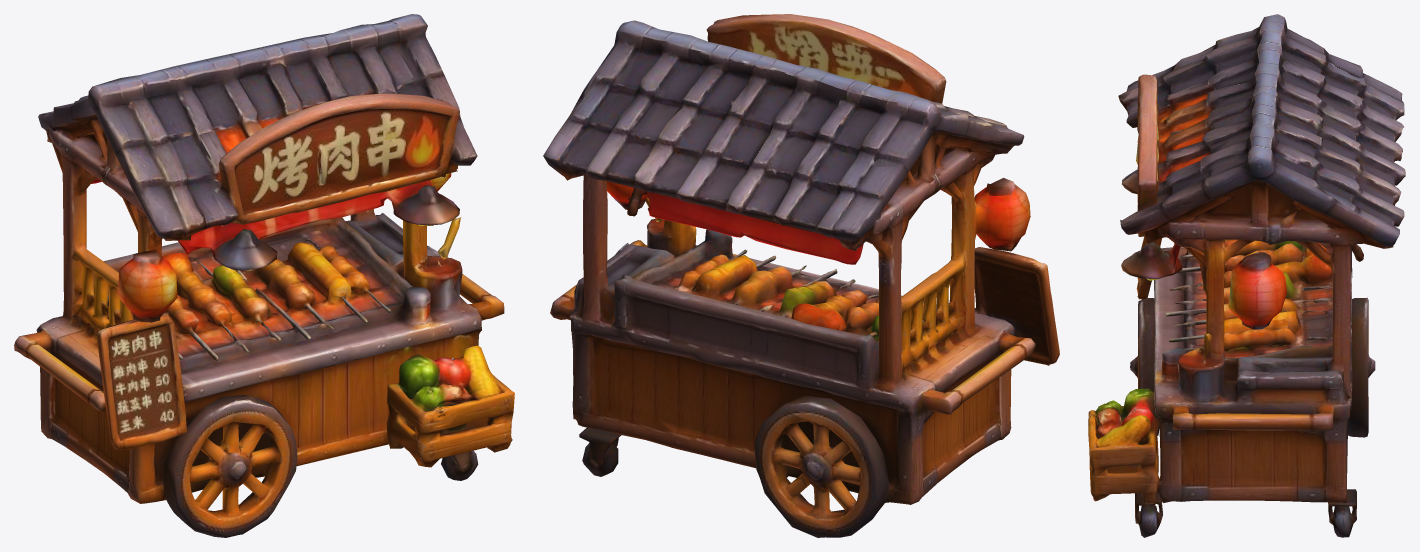
File: stall-bbq.glb
The picture shows the model from 3 angles, left to right: view 1: azimuth 30°, elevation 25°; view 2: azimuth 150°, elevation 25°; view 3: azimuth 270°, elevation 25°; orthographic projection. The views are drawn at different scales.
Parts seen in each view (by area): view 1: tripo_node_701c9356-8149-4c03-a01c-1737c9c537ee; view 2: tripo_node_701c9356-8149-4c03-a01c-1737c9c537ee; view 3: tripo_node_701c9356-8149-4c03-a01c-1737c9c537ee.
Part boxes in pixels (x1=…): tripo_node_701c9356-8149-4c03-a01c-1737c9c537ee: x1=14, y1=14, x2=514, y2=537; tripo_node_701c9356-8149-4c03-a01c-1737c9c537ee: x1=543, y1=14, x2=1059, y2=537; tripo_node_701c9356-8149-4c03-a01c-1737c9c537ee: x1=1088, y1=14, x2=1405, y2=537.
Size of the model in its own units: 0.9951 by 0.9677 by 0.7141.
1 material, 1 textured.
